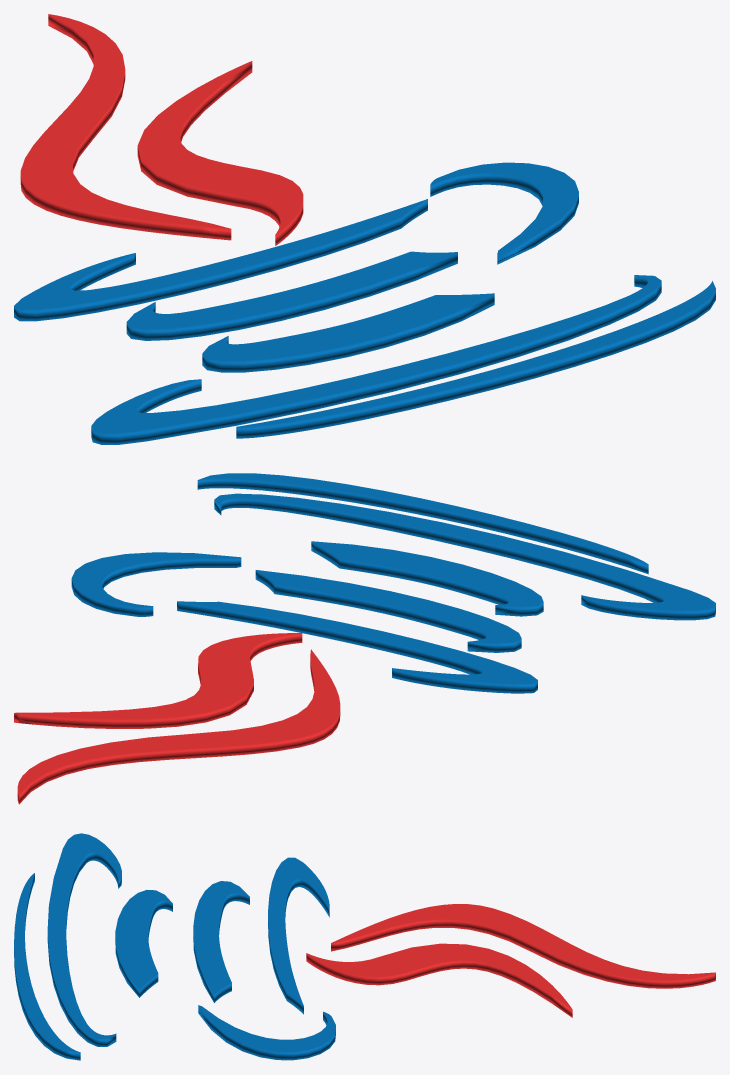
File: Java.gltf
3 renders of one model, top to bottom at view 1: azimuth 30°, elevation 25°; view 2: azimuth 150°, elevation 25°; view 3: azimuth 270°, elevation 25°, orthographic. The views are drawn at different scales.
Visible parts, largest first — view 1: Curve.002, Curve, Curve.003, Curve.001, Curve.004; view 2: Curve.002, Curve, Curve.003, Curve.001, Curve.004; view 3: Curve.002, Curve.003, Curve, Curve.001, Curve.004.
Boxes of the visible parts, x1,y1,x2,y2 form: Curve.002: (14, 162, 661, 444); Curve: (126, 251, 494, 372); Curve.003: (20, 14, 231, 240); Curve.001: (137, 61, 303, 245); Curve.004: (236, 281, 715, 438); Curve.002: (71, 493, 715, 693); Curve: (255, 541, 543, 652); Curve.003: (17, 649, 340, 804); Curve.001: (14, 633, 302, 728); Curve.004: (197, 473, 648, 574); Curve.002: (47, 833, 335, 1060); Curve.003: (331, 904, 715, 988); Curve: (115, 881, 249, 1002); Curve.001: (306, 943, 572, 1017); Curve.004: (14, 873, 80, 1060).
Bounding box in the file's own units: 1.66 × 0.03 × 2.25.
